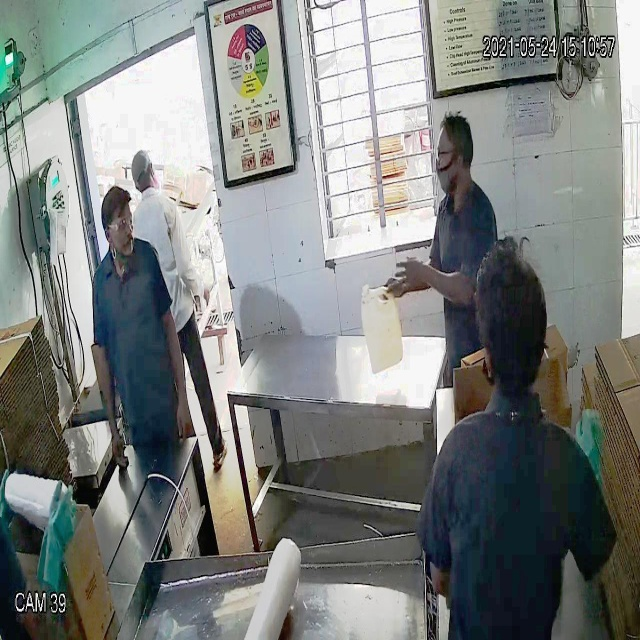Gafas: (430, 137, 470, 171), (100, 204, 135, 236)
